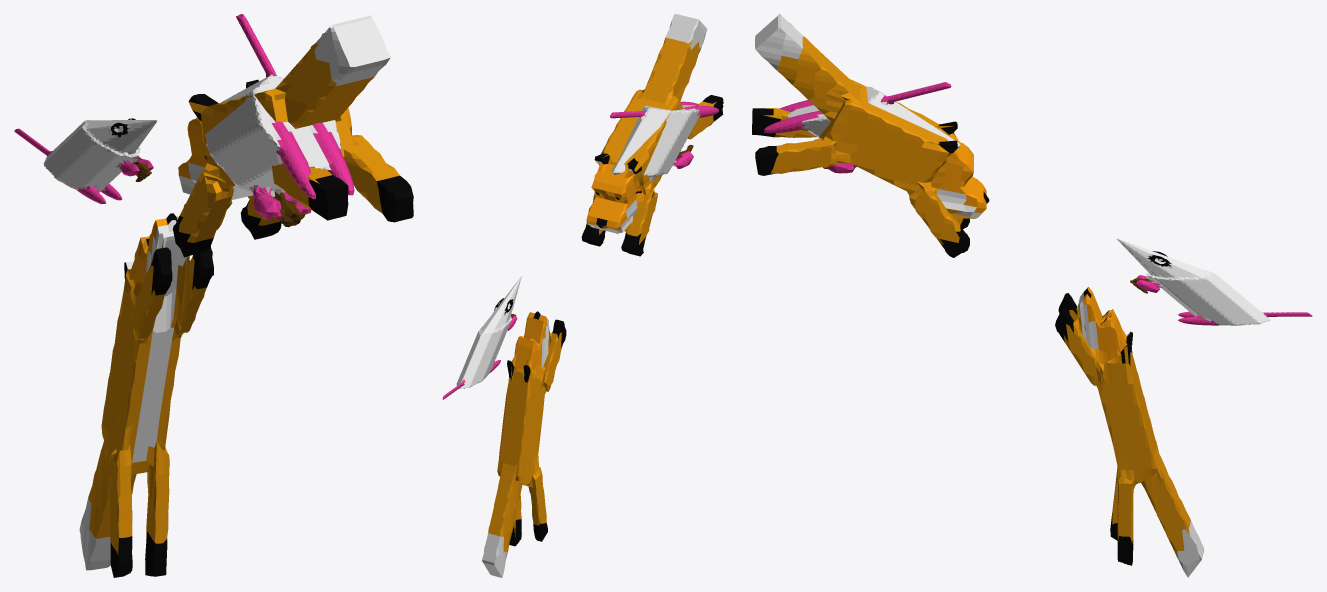
Rendered from MorphScene.glb.
3 renders of one model, left to right at view 1: azimuth 30°, elevation 25°; view 2: azimuth 150°, elevation 25°; view 3: azimuth 270°, elevation 25°, orthographic. The views are drawn at different scales.
Parts seen in each view (by area): view 1: fox.001, fox, rat.001, rat; view 2: fox, fox.001, rat.001, rat; view 3: fox, fox.001, rat, rat.001.
Part boxes in pixels (x1,y1,x2,y2): fox.001: (79,213,213,577); fox: (173,15,413,257); rat.001: (204,14,354,227); rat: (14,118,156,204); fox: (581,14,723,256); fox.001: (481,311,566,577); rat.001: (610,101,718,193); rat: (442,276,521,399); fox: (752,14,989,257); fox.001: (1055,287,1204,577); rat: (1117,238,1312,325); rat.001: (764,82,960,173).
Size of the model in its own units: 1.57 by 10.16 by 9.57.
